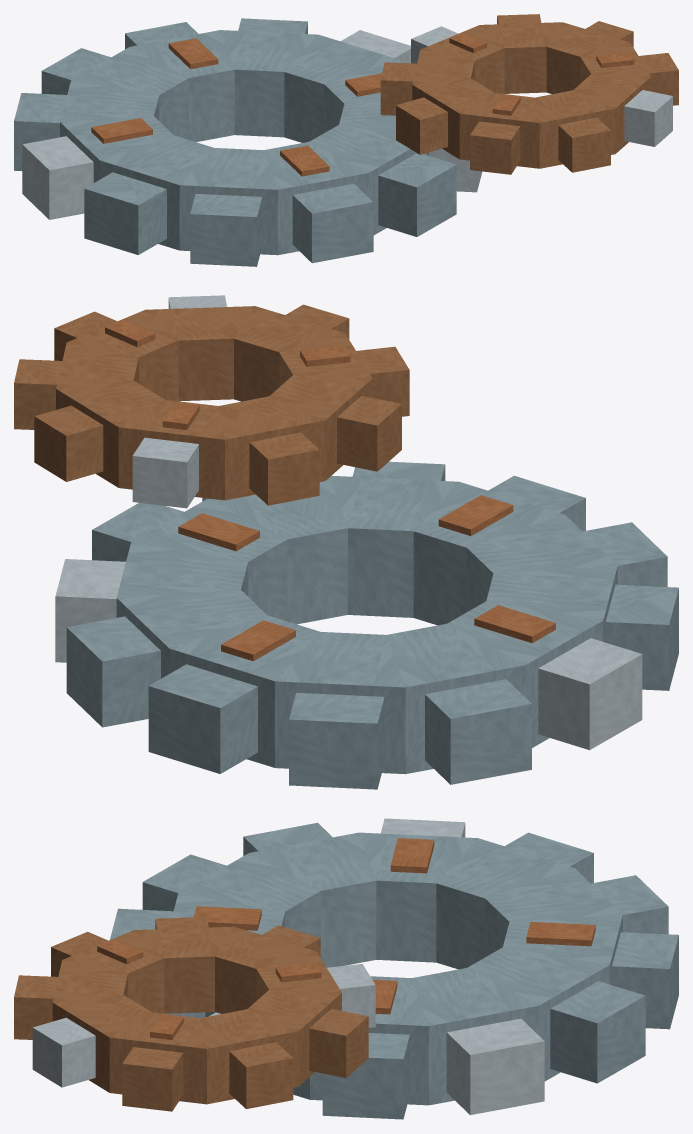
Rendered from Engranajes.fbx.
The picture shows the model from 3 angles, top to bottom: view 1: azimuth 30°, elevation 25°; view 2: azimuth 150°, elevation 25°; view 3: azimuth 270°, elevation 25°; orthographic projection. The views are drawn at different scales.
Visible parts, largest first — view 1: Engranajes; view 2: Engranajes; view 3: Engranajes.
Boxes of the visible parts, x1,y1,x2,y2 form: Engranajes: [14, 14, 678, 266]; Engranajes: [14, 295, 678, 789]; Engranajes: [14, 818, 678, 1119].
Size of the model in its own units: 1.48 by 1.32 by 0.3187.
1 material, 1 textured.
